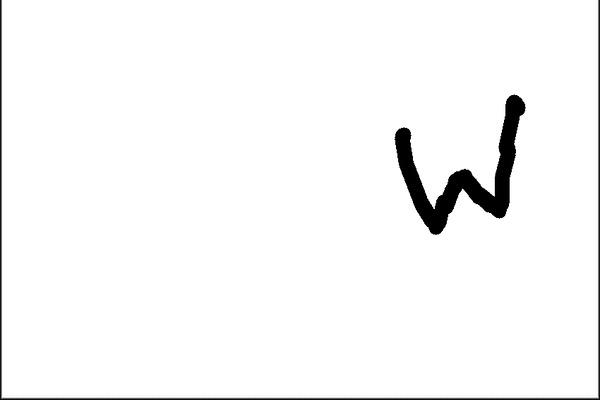w: (377, 73, 540, 265)
